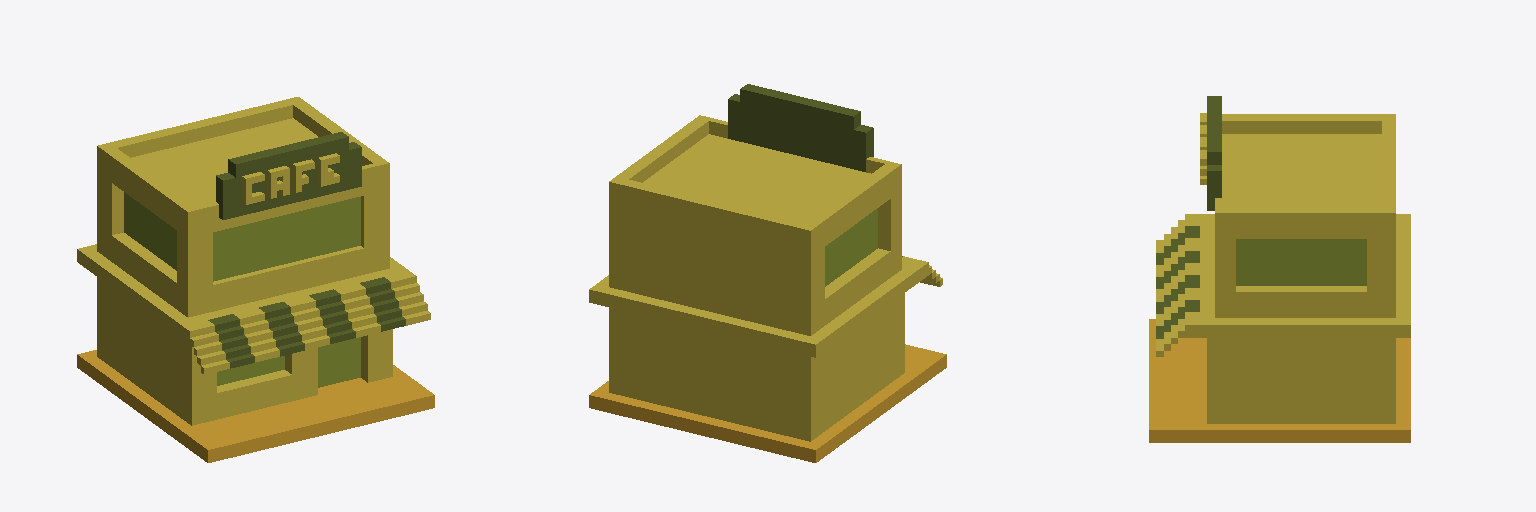
The picture shows the model from 3 angles: view 1: azimuth 30°, elevation 25°; view 2: azimuth 150°, elevation 25°; view 3: azimuth 270°, elevation 25°; orthographic projection.
Parts seen in each view (by area): view 1: 9; view 2: 9; view 3: 9.
Boxes of the visible parts, x1,y1,x2,y2 form: 9: [77, 97, 434, 462]; 9: [589, 84, 946, 462]; 9: [1149, 96, 1410, 442].
Size of the model in its own units: 36 by 40 by 36.
Materials: 1 (1 with a texture image).